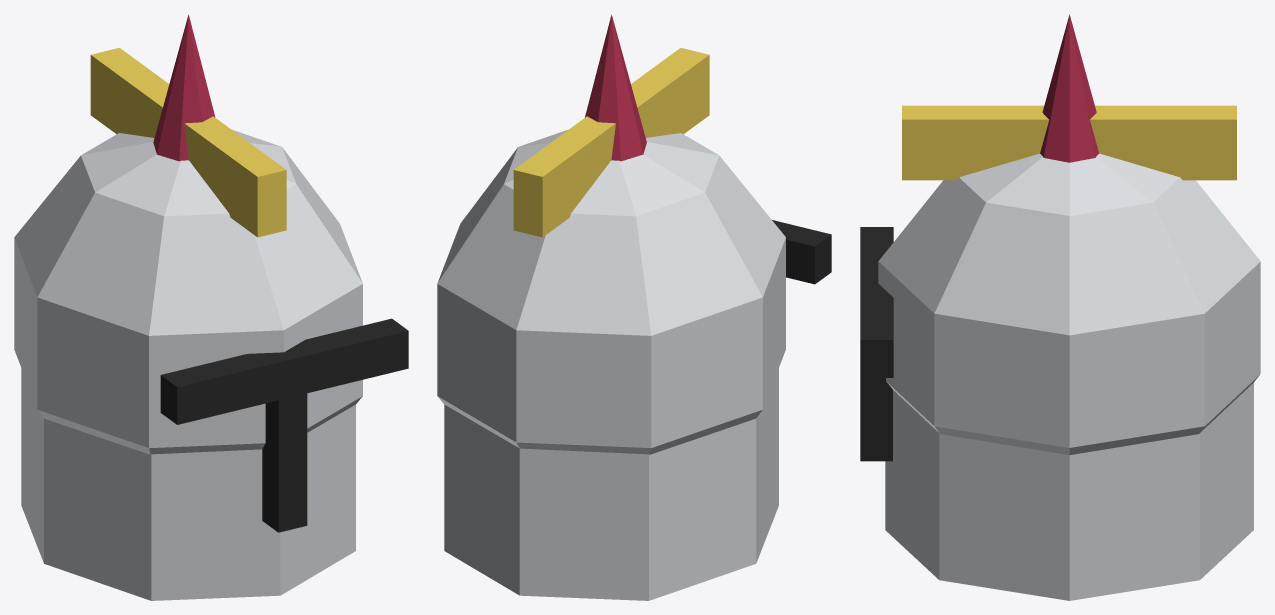
The model's file is std_helmet.glb.
The picture shows the model from 3 angles, left to right: view 1: azimuth 30°, elevation 25°; view 2: azimuth 150°, elevation 25°; view 3: azimuth 270°, elevation 25°; orthographic projection.
Visible parts, largest first — view 1: std_helmet; view 2: std_helmet; view 3: std_helmet.
Part boxes in pixels (<box>): std_helmet: <box>14,14,408,600</box>; std_helmet: <box>437,14,831,600</box>; std_helmet: <box>860,14,1260,600</box>.
Bounding box in the file's own units: 0.2092 × 0.34 × 0.2391.
